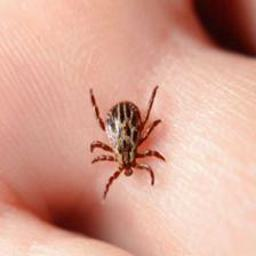Dermacentor variabilis: (87, 85, 169, 199)
